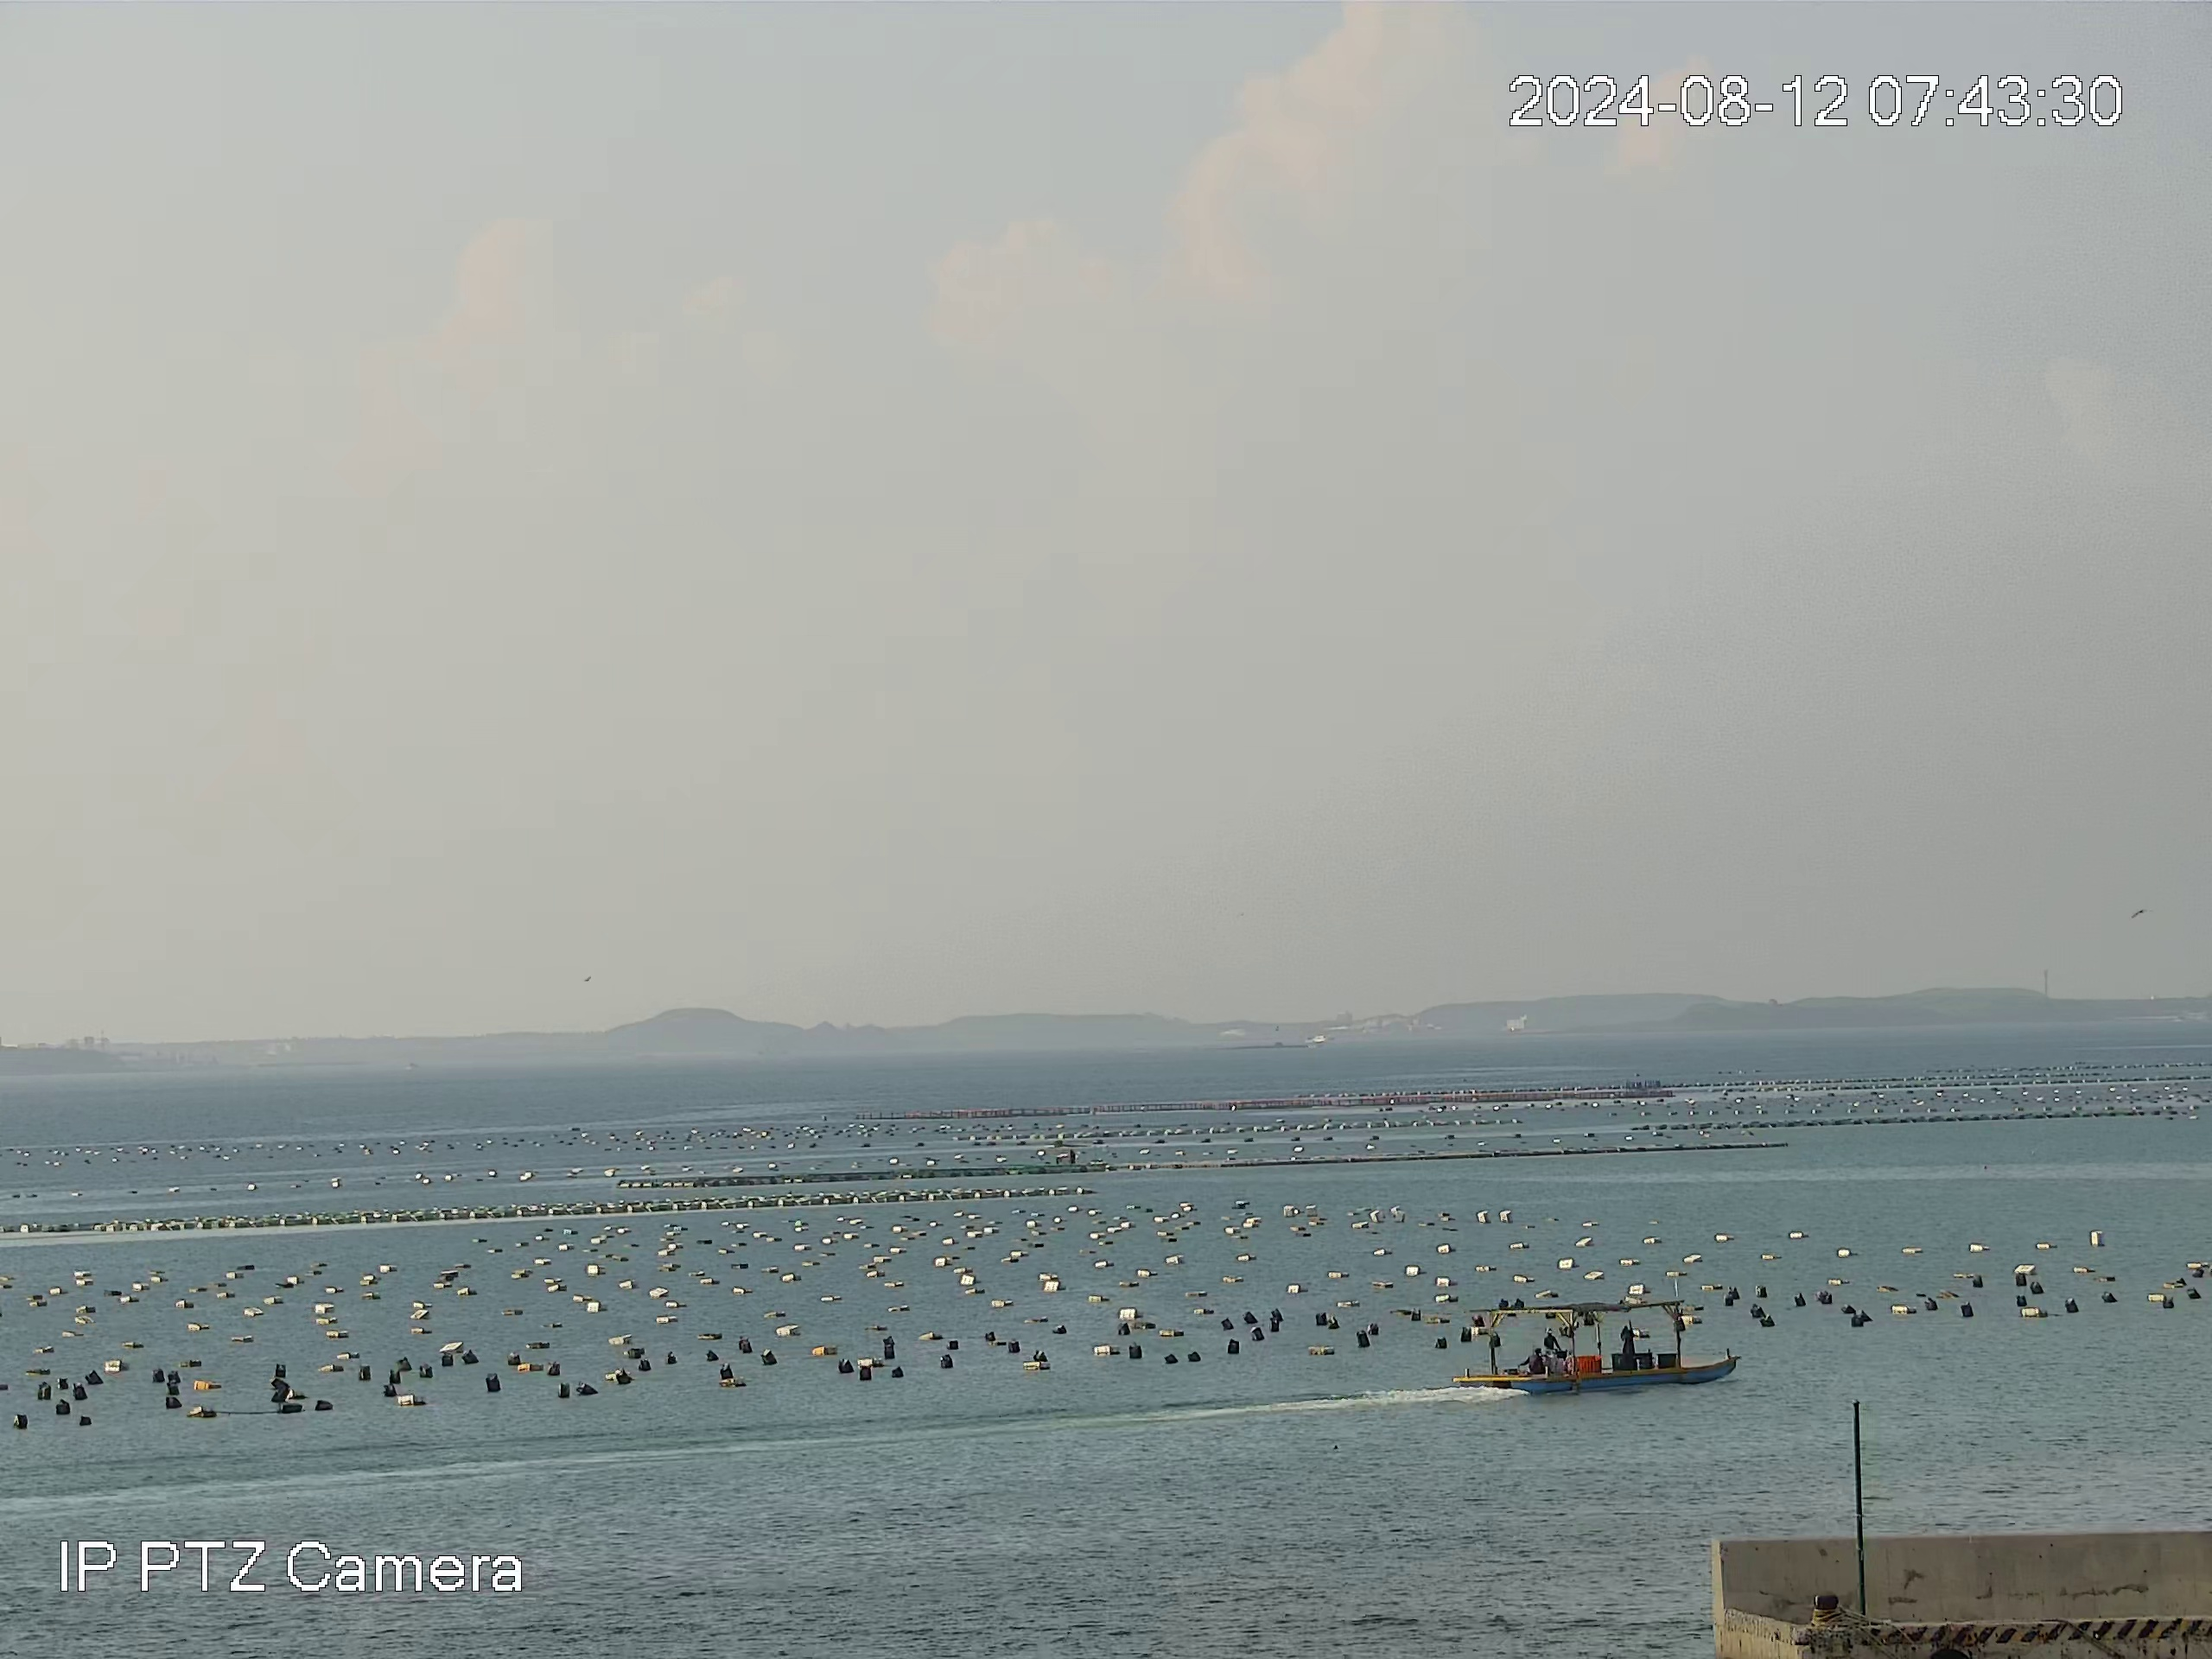boat: (1446, 1291, 1754, 1396)
